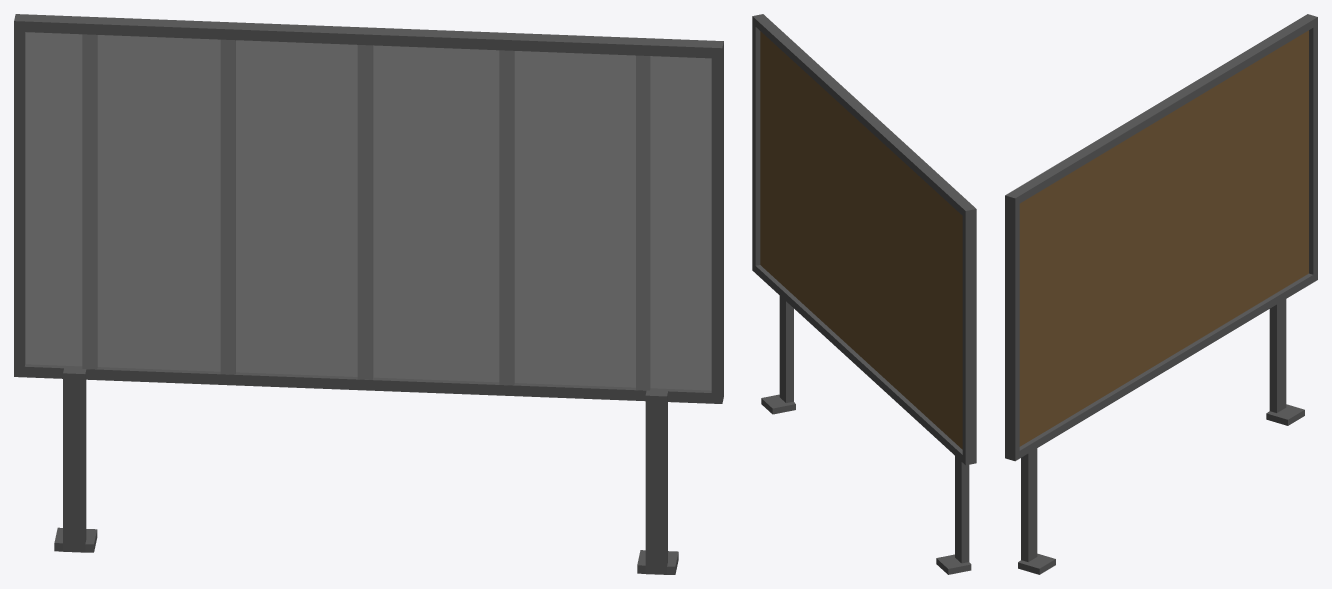
Rendered from Street Advertisement 3.fbx.
The picture shows the model from 3 angles, left to right: view 1: azimuth 30°, elevation 25°; view 2: azimuth 150°, elevation 25°; view 3: azimuth 270°, elevation 25°; orthographic projection. The views are drawn at different scales.
Visible parts, largest first — view 1: Street Advertisement 3; view 2: Street Advertisement 3; view 3: Street Advertisement 3.
Part boxes in pixels (bbox=[...]): Street Advertisement 3: bbox=[14, 14, 723, 574]; Street Advertisement 3: bbox=[752, 14, 976, 574]; Street Advertisement 3: bbox=[1005, 14, 1317, 574].
Bounding box in the file's own units: 534 × 383 × 522.
